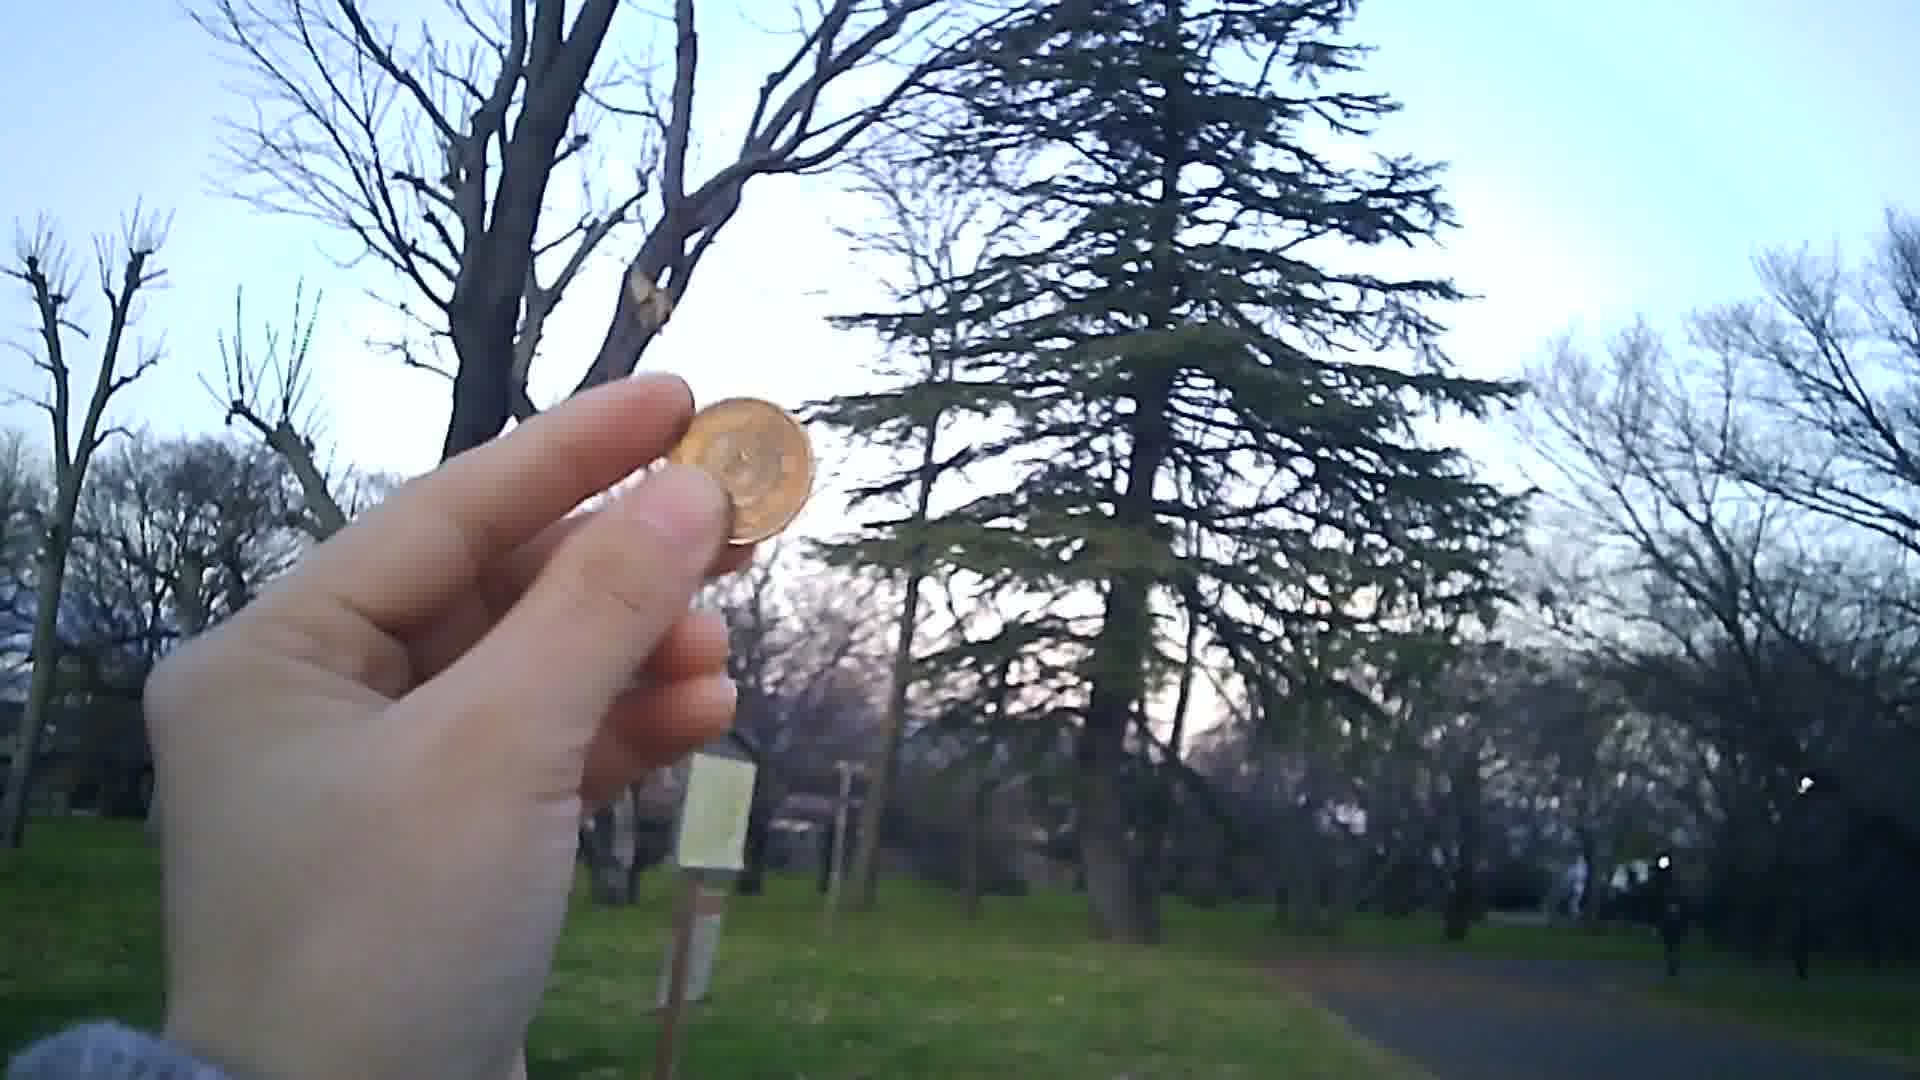10 Yen: (665, 394, 818, 550)
